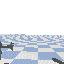drone: (0, 40, 14, 60)
